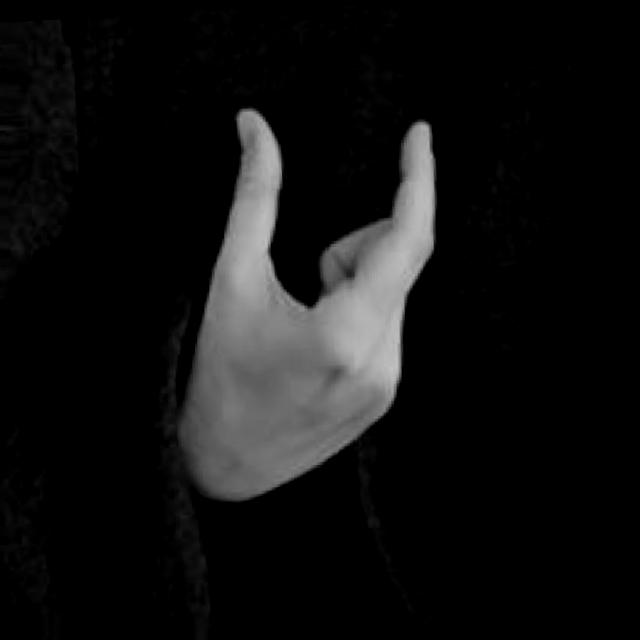U: (158, 85, 461, 508)
